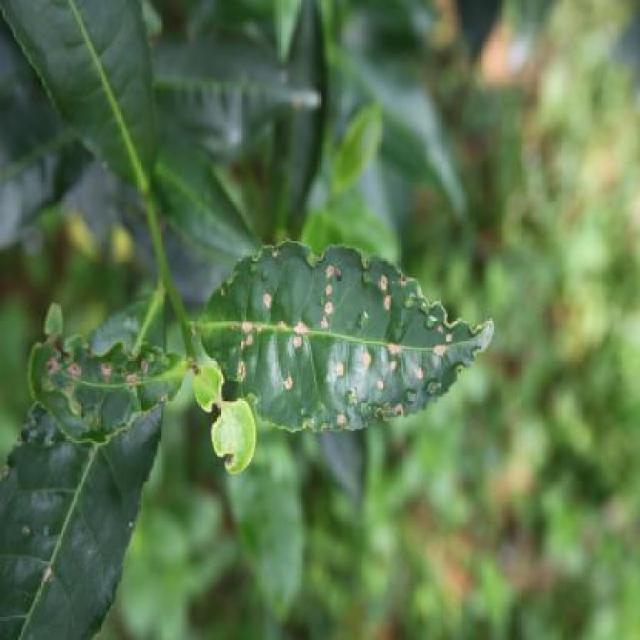Tea Mosquito bug infested leaf: (225, 241, 489, 434), (28, 306, 189, 442)
